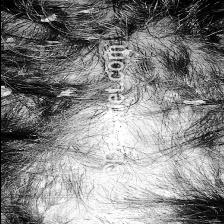Non-Cancerous Skin Condition: (0, 29, 93, 224), (125, 29, 224, 207)
